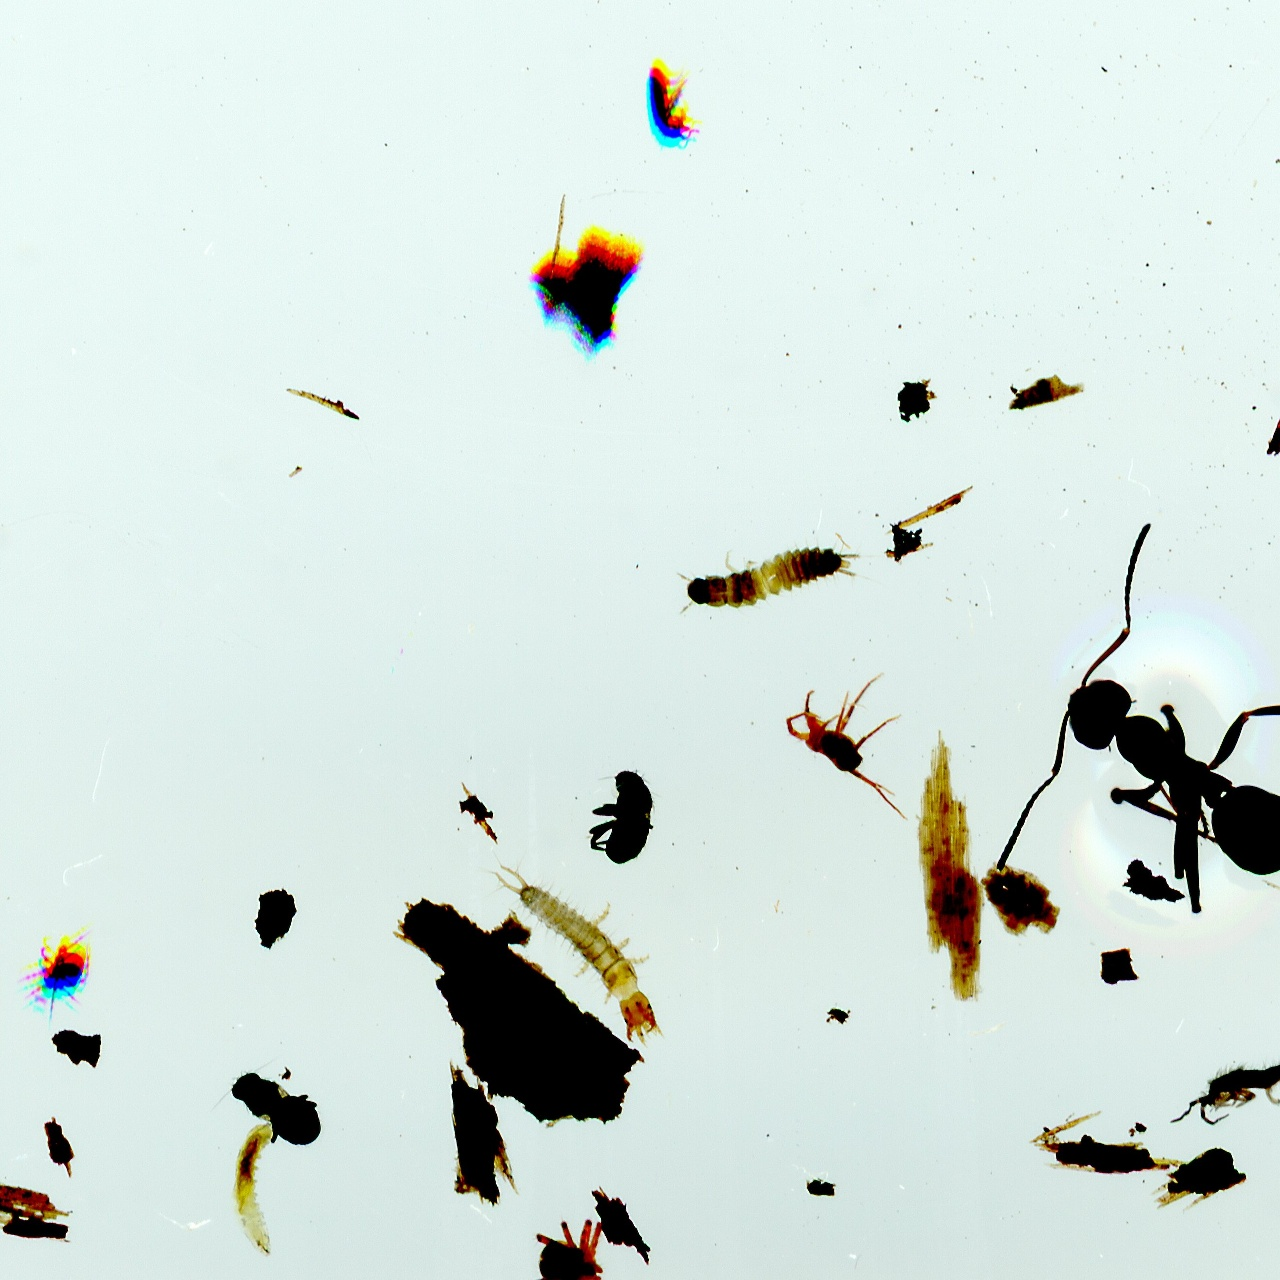arthropod: (986, 518, 1280, 918), (462, 808, 706, 1062), (660, 517, 894, 630), (203, 1035, 349, 1182), (782, 668, 914, 826), (1153, 1041, 1280, 1147), (225, 1117, 282, 1266), (12, 928, 100, 1023), (588, 764, 662, 869), (639, 50, 705, 162), (530, 1217, 605, 1280)
